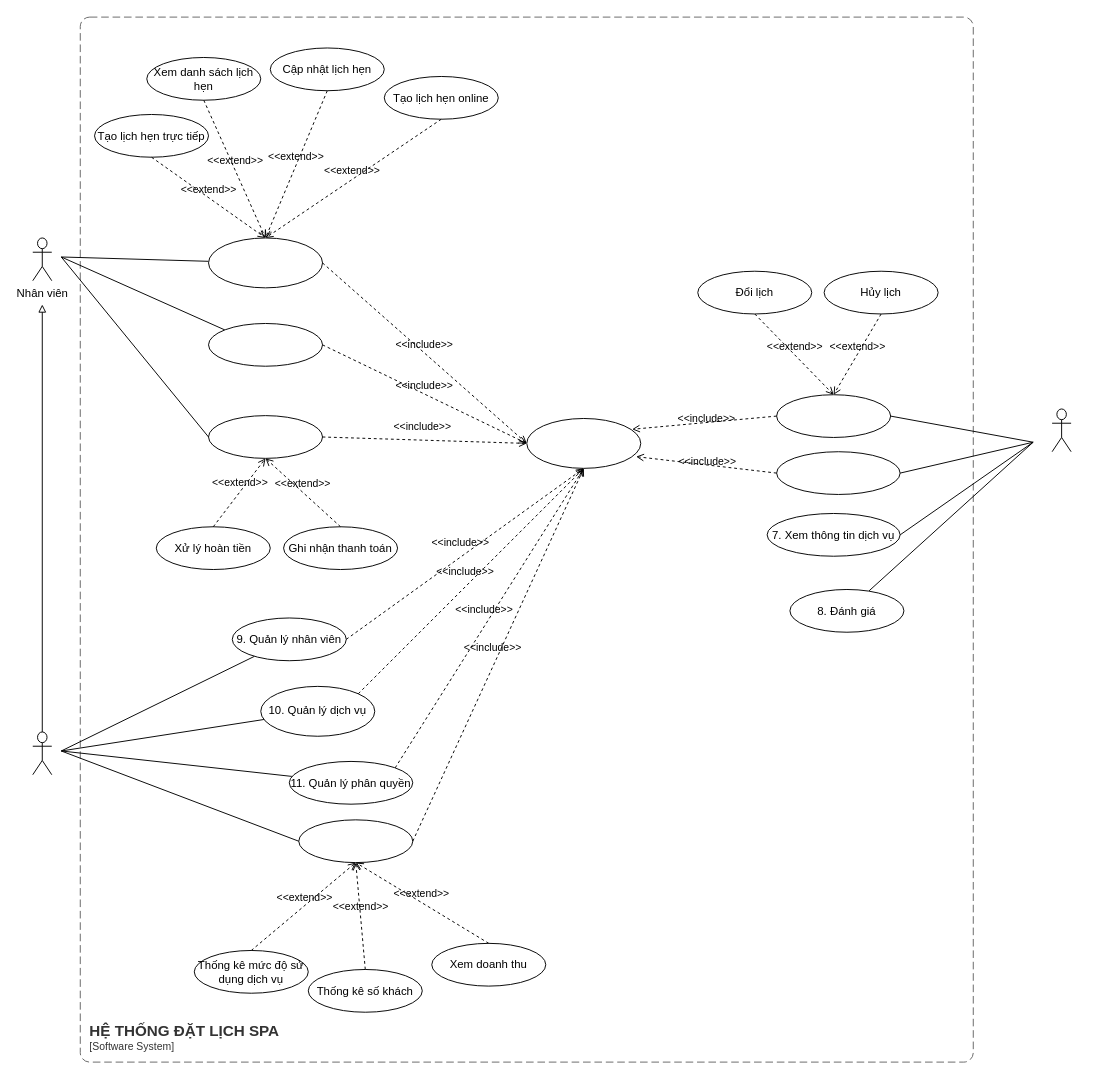
The diagram is 1108 pixels wide and 1078 high, and some of its shapes have lost their labels. The centre of each missing label's shape, as x and y in pixels:
"1. Đăng nhập" goes at pixel 583 443.
"12. Xem báo cáo" goes at pixel 355 841.
"2. Quản lý lịch hẹn" goes at pixel 265 262.
"3. Quản lý thông tin khách hàng" goes at pixel 265 344.
"4. Quản lý thanh toán" goes at pixel 265 436.
"5. Đặt lịch hẹn" goes at pixel 833 415.
"6. Xem lịch sử đặt lịch" goes at pixel 838 472.
"Khách hàng" goes at pixel 1061 430.
"Quản lý" goes at pixel 42 753.
